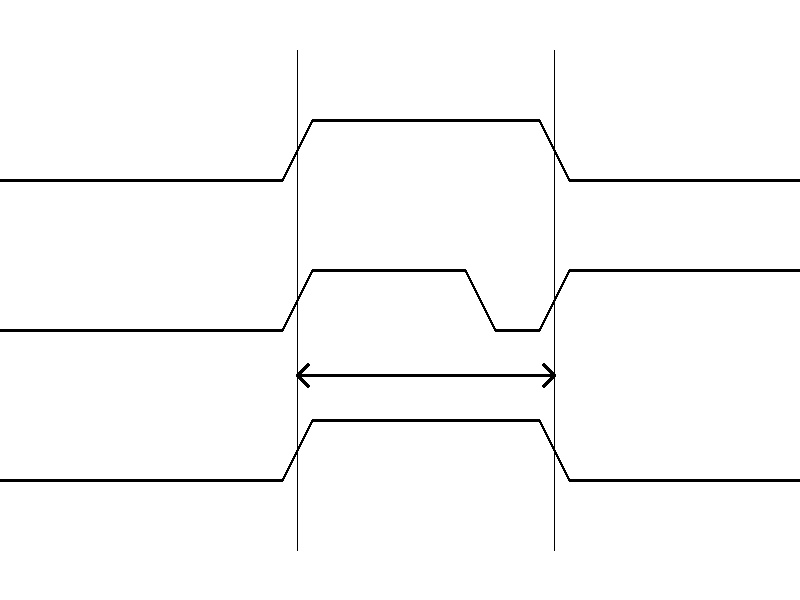double_arrow: (297, 360, 554, 390)
